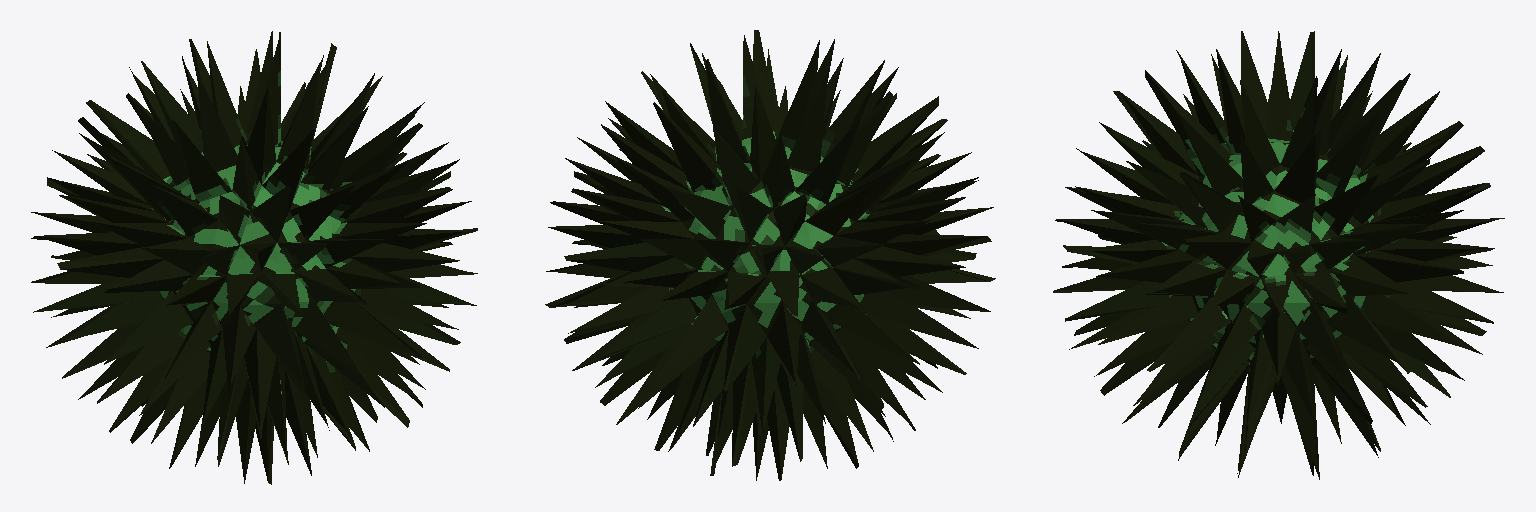
The picture shows the model from 3 angles: view 1: azimuth 30°, elevation 25°; view 2: azimuth 150°, elevation 25°; view 3: azimuth 270°, elevation 25°; orthographic projection.
Parts seen in each view (by area): view 1: art_kolobok_Icosphere; view 2: art_kolobok_Icosphere; view 3: art_kolobok_Icosphere.
Boxes of the visible parts, x1=… form: art_kolobok_Icosphere: x1=31, y1=31, x2=477, y2=484; art_kolobok_Icosphere: x1=545, y1=30, x2=995, y2=480; art_kolobok_Icosphere: x1=1053, y1=31, x2=1504, y2=479.
Bounding box in the file's own units: 3.94 × 3.83 × 3.94.
1 materials, 1 textured.